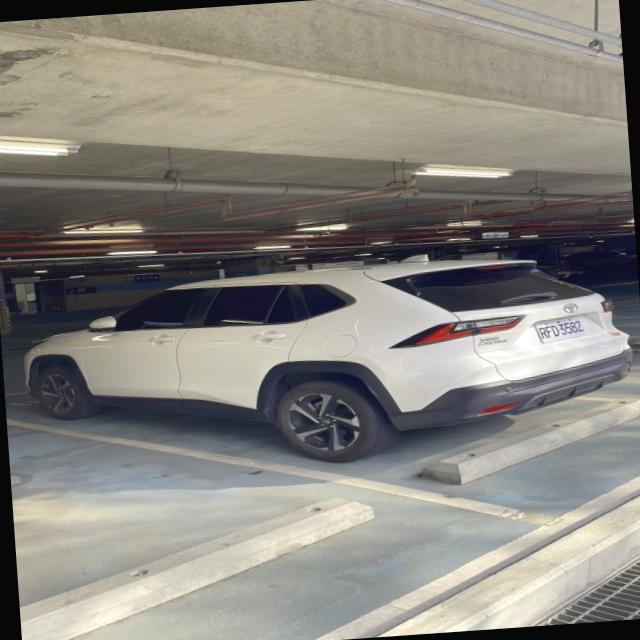license plate: (535, 317, 583, 342)
wheel: (277, 379, 398, 462)
